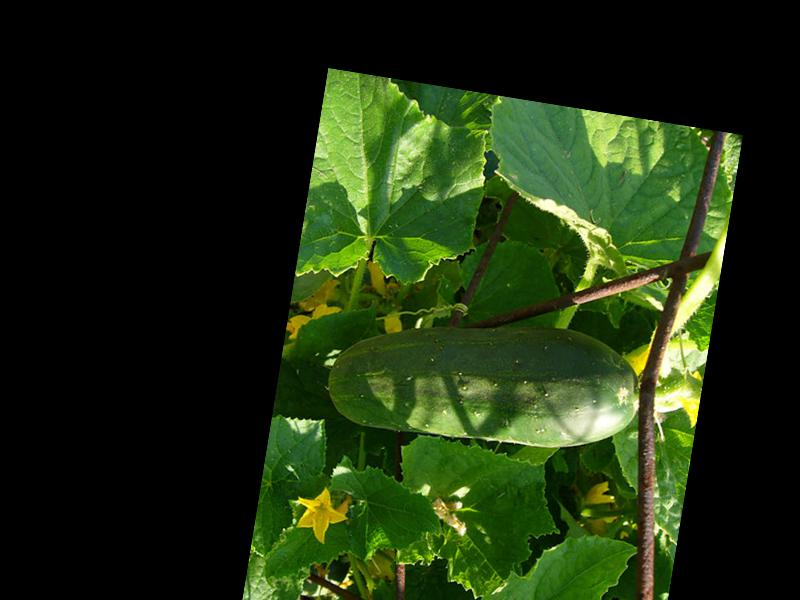Cucumber: (321, 290, 648, 468)
